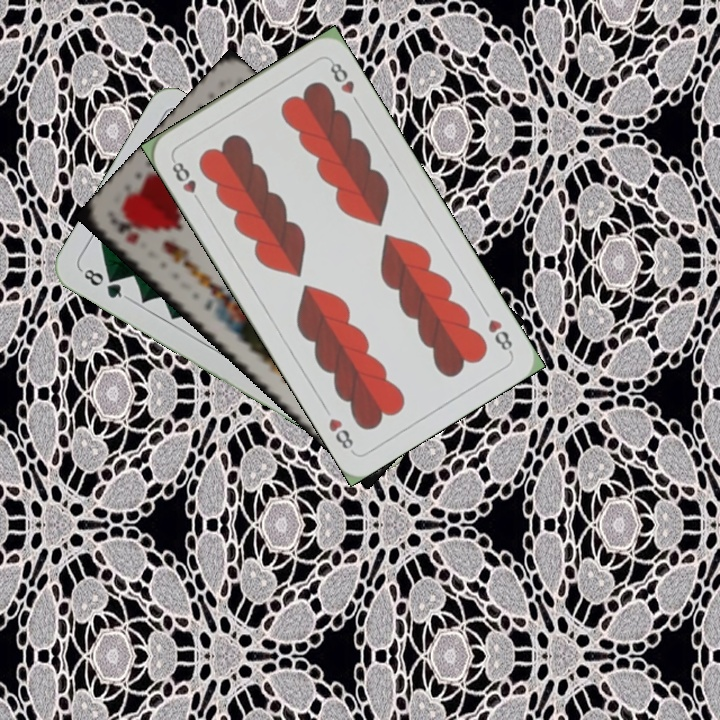G8: (77, 264, 130, 302)
H8: (167, 154, 205, 208), (484, 314, 516, 357)
HK: (113, 217, 143, 247)
